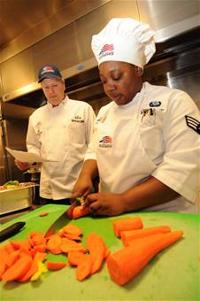person: (69, 18, 200, 217)
